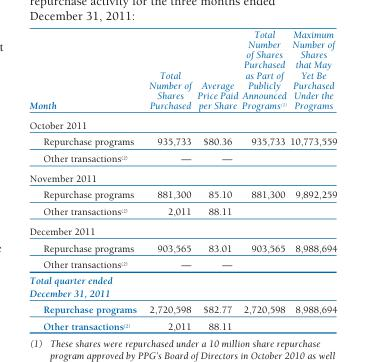table: (28, 28, 336, 331)
table column: (28, 28, 142, 331), (142, 28, 193, 331), (287, 28, 336, 331), (239, 28, 287, 331), (193, 28, 239, 331)
table column header: (28, 28, 336, 115)
table projected row header: (28, 272, 336, 301), (28, 115, 336, 133), (28, 168, 336, 186), (28, 221, 336, 239)
table row: (28, 28, 336, 115), (28, 272, 336, 301), (28, 149, 336, 168), (28, 202, 336, 221), (28, 115, 336, 133), (28, 168, 336, 186), (28, 221, 336, 239), (28, 255, 336, 272), (28, 133, 336, 149), (28, 186, 336, 202), (28, 239, 336, 255), (28, 301, 336, 317), (28, 317, 336, 331)
